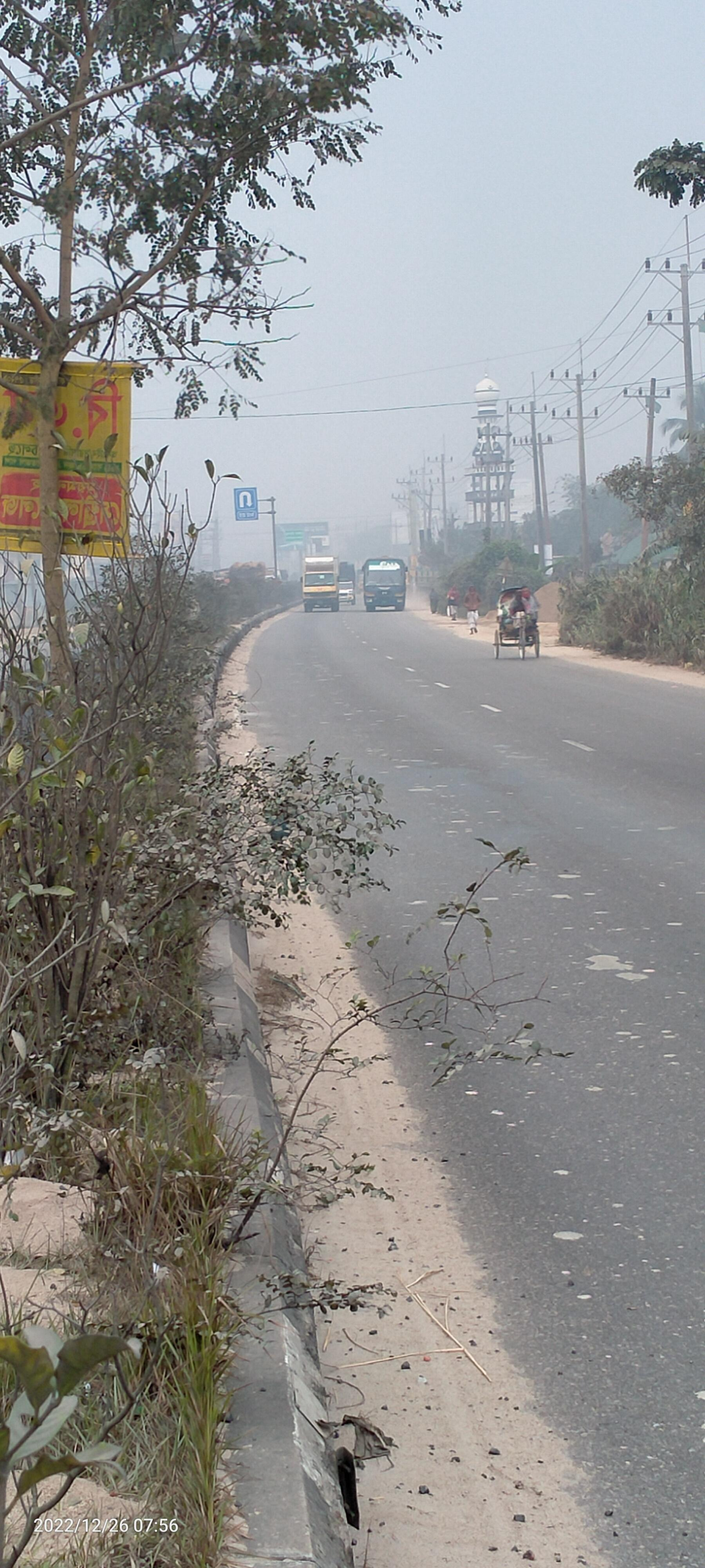Bus: (359, 552, 414, 613)
Car: (490, 582, 548, 665)
Truck: (296, 552, 342, 612)
